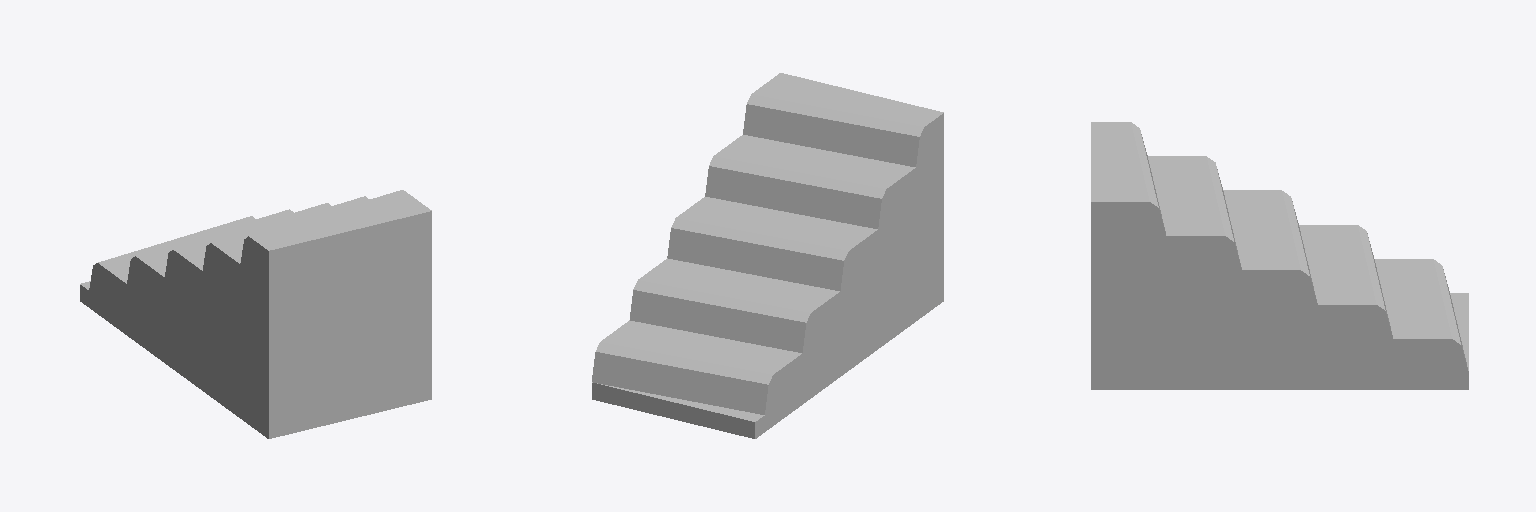
Rendered from Path_Steps_Edge.obj.
3 views of the same model, side by side, from view 1: azimuth 30°, elevation 25°; view 2: azimuth 150°, elevation 25°; view 3: azimuth 270°, elevation 25° (orthographic).
Parts seen in each view (by area): view 1: object1; view 2: object1; view 3: object1.
Boxes of the visible parts, x1=… form: object1: x1=80, y1=190, x2=431, y2=438; object1: x1=592, y1=73, x2=943, y2=438; object1: x1=1091, y1=122, x2=1468, y2=389.
Bounding box in the file's own units: 1 × 1.1 × 2.